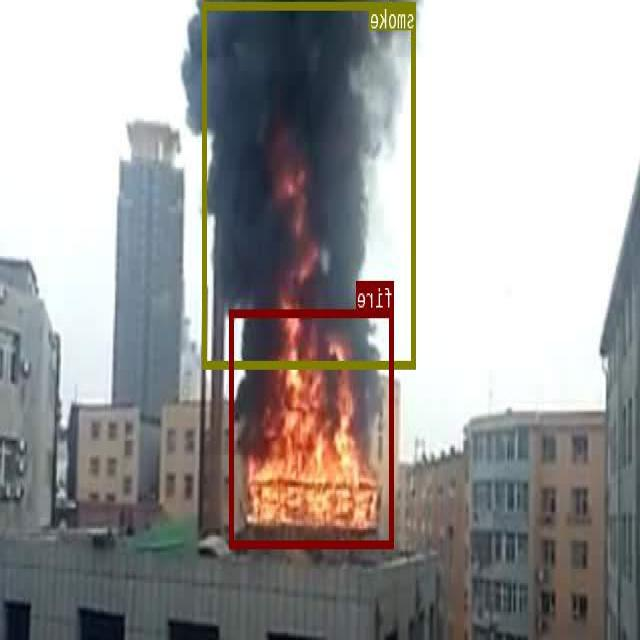fire: (231, 309, 394, 546)
smoke: (203, 1, 417, 368)
